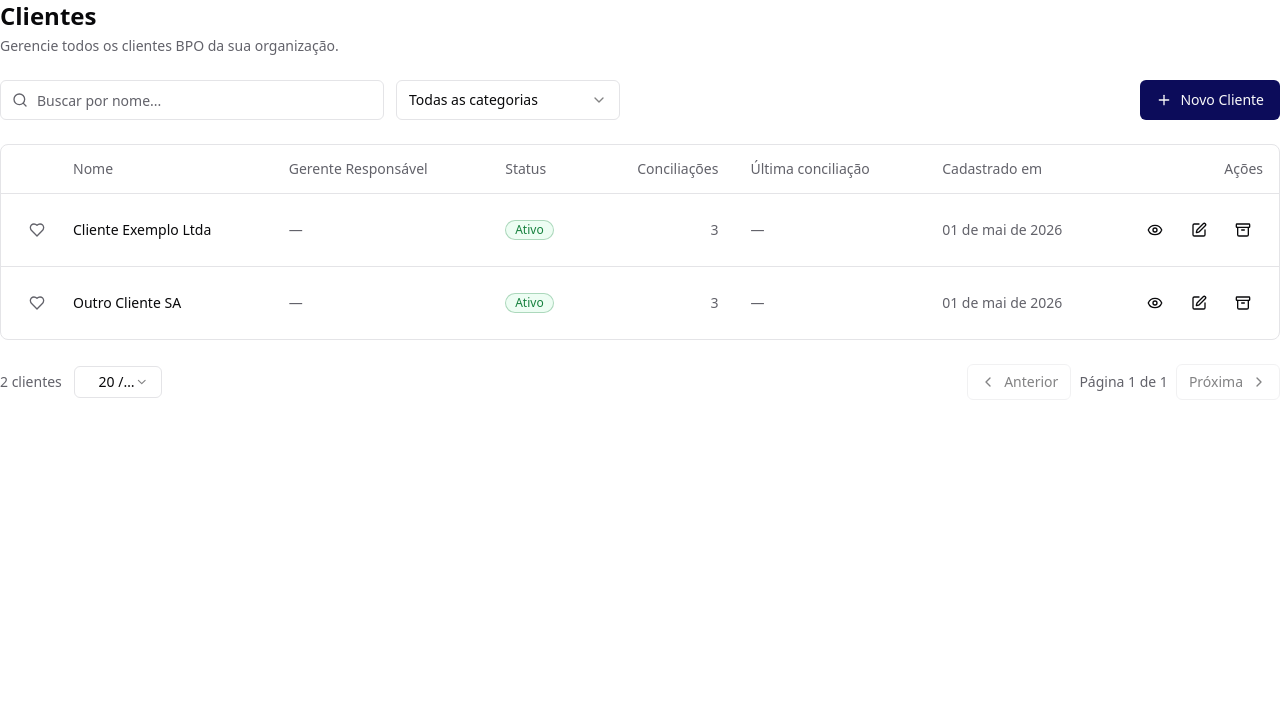
Test: Clientes — encerrar pela lista (86e3fr9qj) › admin vê "Encerrar" no cliente aberto e o ícone abre o diálogo de encerramento
The width and height of the screenshot is (1280, 720).
Step 1. Click the button named "Encerrar Cliente Exemplo Ltda" → (1243, 230), box x1=1223 y1=210 x2=1263 y2=250
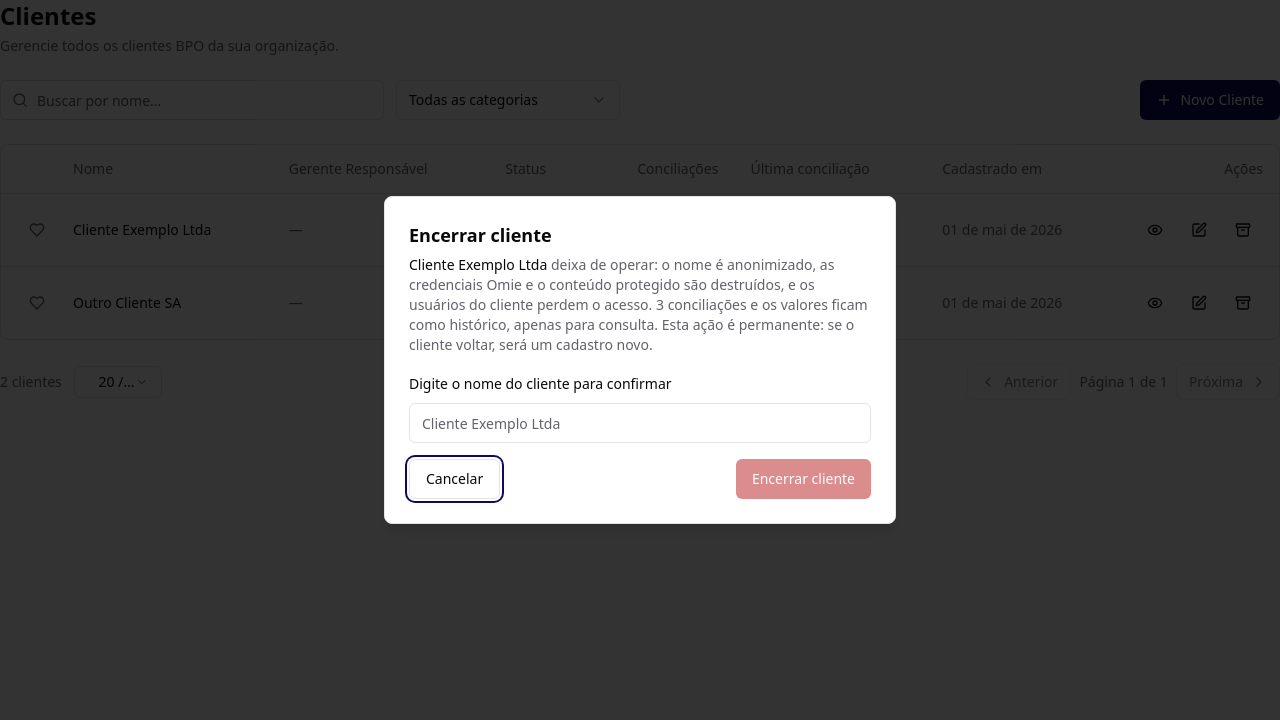
Result: the dialog "Encerrar cliente" is shown at x1=384 y1=196 x2=896 y2=524
